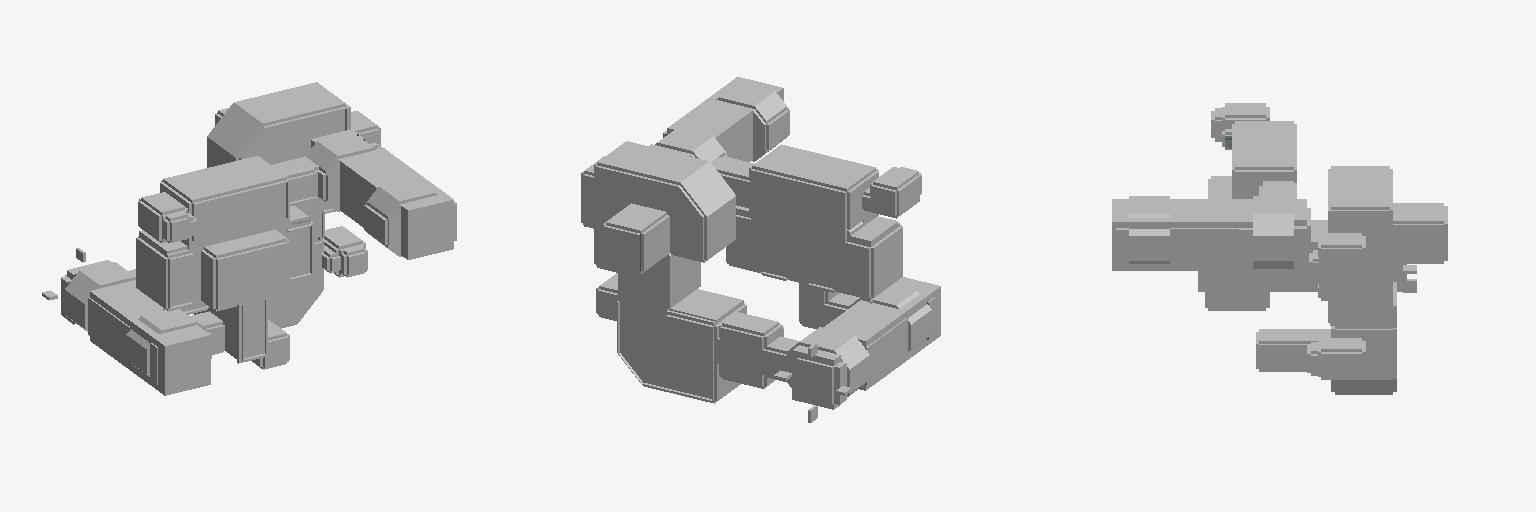
The picture shows the model from 3 angles: view 1: azimuth 30°, elevation 25°; view 2: azimuth 150°, elevation 25°; view 3: azimuth 270°, elevation 25°; orthographic projection.
Parts seen in each view (by area): view 1: world.worldspawn.Brush_1079, world.worldspawn.Brush_1082, world.worldspawn.Brush_374, world.worldspawn.Brush_400, world.worldspawn.Brush_390, world.worldspawn.Brush_134, world.worldspawn.Brush_74, world.worldspawn.Brush_385, world.worldspawn.Brush_123, world.worldspawn.Brush_398, world.worldspawn.Brush_122, world.worldspawn.Brush_239 (+11 smaller); view 2: world.worldspawn.Brush_1082, world.worldspawn.Brush_1079, world.worldspawn.Brush_5, world.worldspawn.Brush_43, world.worldspawn.Brush_18, world.worldspawn.Brush_188, world.worldspawn.Brush_59, world.worldspawn.Brush_84, world.worldspawn.Brush_39, world.worldspawn.Brush_1, world.worldspawn.Brush_35, world.worldspawn.Brush_73 (+28 smaller); view 3: world.worldspawn.Brush_1082, world.worldspawn.Brush_384, world.worldspawn.Brush_2, world.worldspawn.Brush_216, world.worldspawn.Brush_233, world.worldspawn.Brush_62, world.worldspawn.Brush_63, world.worldspawn.Brush_324, world.worldspawn.Brush_390, world.worldspawn.Brush_404, world.worldspawn.Brush_453, world.worldspawn.Brush_343 (+12 smaller).
Part boxes in pixels (left/top/right/bottom): world.worldspawn.Brush_1079: left=90, top=280, right=210, bottom=395; world.worldspawn.Brush_1082: left=339, top=148, right=453, bottom=259; world.worldspawn.Brush_374: left=275, top=115, right=321, bottom=148; world.worldspawn.Brush_400: left=275, top=280, right=298, bottom=326; world.worldspawn.Brush_390: left=271, top=92, right=342, bottom=115; world.worldspawn.Brush_134: left=252, top=183, right=285, bottom=212; world.worldspawn.Brush_74: left=221, top=112, right=260, bottom=156; world.worldspawn.Brush_385: left=207, top=103, right=246, bottom=146; world.worldspawn.Brush_123: left=195, top=197, right=227, bottom=226; world.worldspawn.Brush_398: left=299, top=241, right=321, bottom=297; world.worldspawn.Brush_122: left=216, top=253, right=241, bottom=284; world.worldspawn.Brush_239: left=364, top=205, right=387, bottom=244; world.worldspawn.Brush_1082: left=667, top=77, right=783, bottom=161; world.worldspawn.Brush_1079: left=826, top=277, right=940, bottom=390; world.worldspawn.Brush_5: left=720, top=326, right=763, bottom=386; world.worldspawn.Brush_43: left=643, top=309, right=666, bottom=387; world.worldspawn.Brush_18: left=619, top=171, right=667, bottom=211; world.worldspawn.Brush_188: left=797, top=358, right=833, bottom=404; world.worldspawn.Brush_59: left=604, top=225, right=640, bottom=271; world.worldspawn.Brush_84: left=596, top=165, right=620, bottom=236; world.worldspawn.Brush_39: left=679, top=355, right=711, bottom=398; world.worldspawn.Brush_1: left=619, top=272, right=666, bottom=307; world.worldspawn.Brush_35: left=620, top=303, right=642, bottom=357; world.worldspawn.Brush_73: left=679, top=212, right=703, bottom=260; world.worldspawn.Brush_1082: left=1112, top=199, right=1252, bottom=270; world.worldspawn.Brush_384: left=1362, top=210, right=1389, bottom=310; world.worldspawn.Brush_2: left=1362, top=329, right=1389, bottom=379; world.worldspawn.Brush_216: left=1211, top=228, right=1238, bottom=265; world.worldspawn.Brush_233: left=1170, top=228, right=1197, bottom=265; world.worldspawn.Brush_62: left=1417, top=224, right=1443, bottom=261; world.worldspawn.Brush_63: left=1393, top=224, right=1416, bottom=261; world.worldspawn.Brush_324: left=1335, top=248, right=1361, bottom=280; world.worldspawn.Brush_390: left=1335, top=178, right=1361, bottom=209; world.worldspawn.Brush_404: left=1335, top=352, right=1361, bottom=378; world.worldspawn.Brush_453: left=1259, top=344, right=1286, bottom=369; world.worldspawn.Brush_343: left=1321, top=248, right=1334, bottom=298.
Bounding box in the file's own units: 1568 × 1088 × 1568.
46 materials, 42 textured.